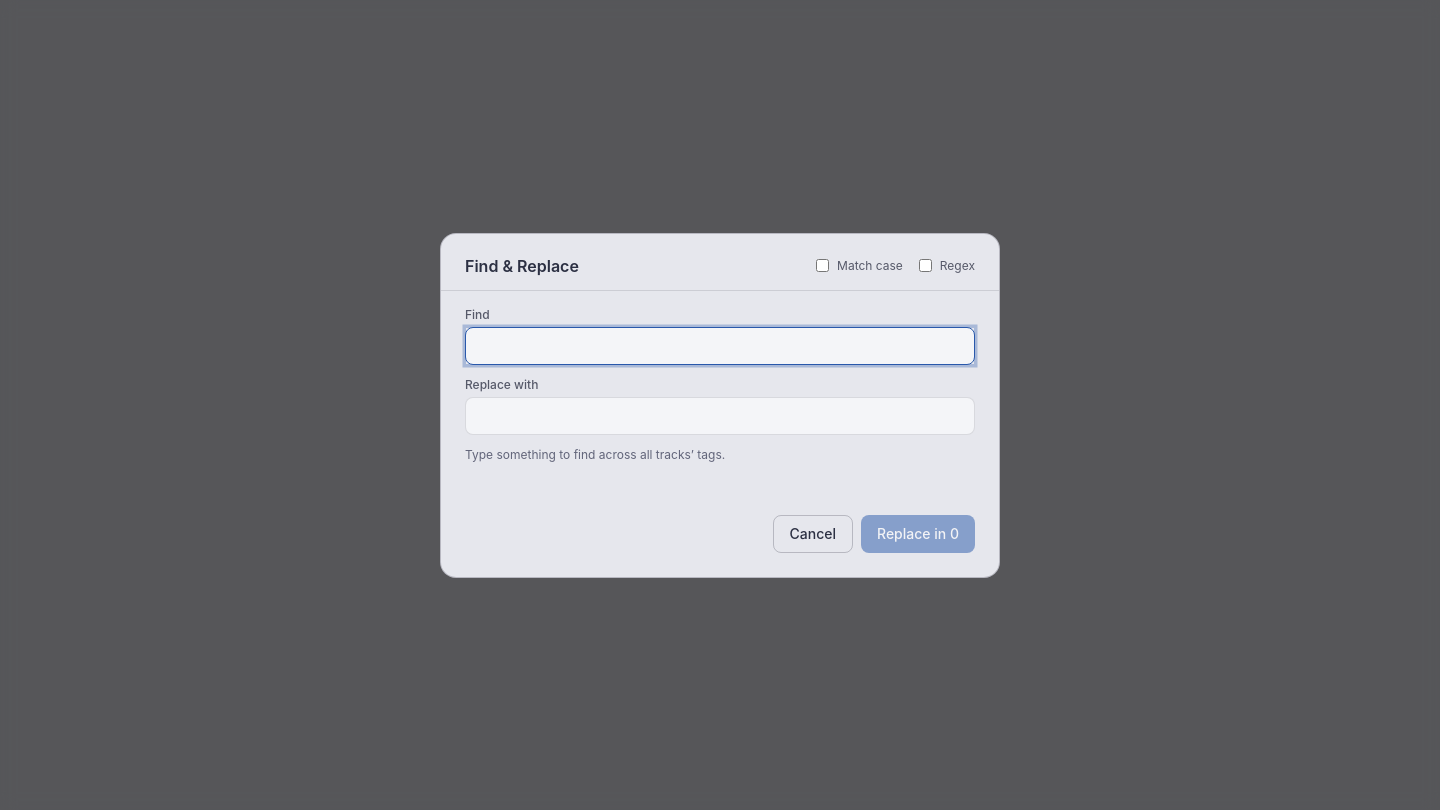
Test: FindReplaceModal chained replacements › relabels the dismiss button from Cancel to Close after the first apply
The image size is (1440, 810).
Expected: the button with test id "find-replace-cancel" reads "Cancel", 772,514 -> 853,552
Type "1. " into the field with test id "find-replace-find".
click(720, 346); type("1. ")  # box 466,328 -> 974,364
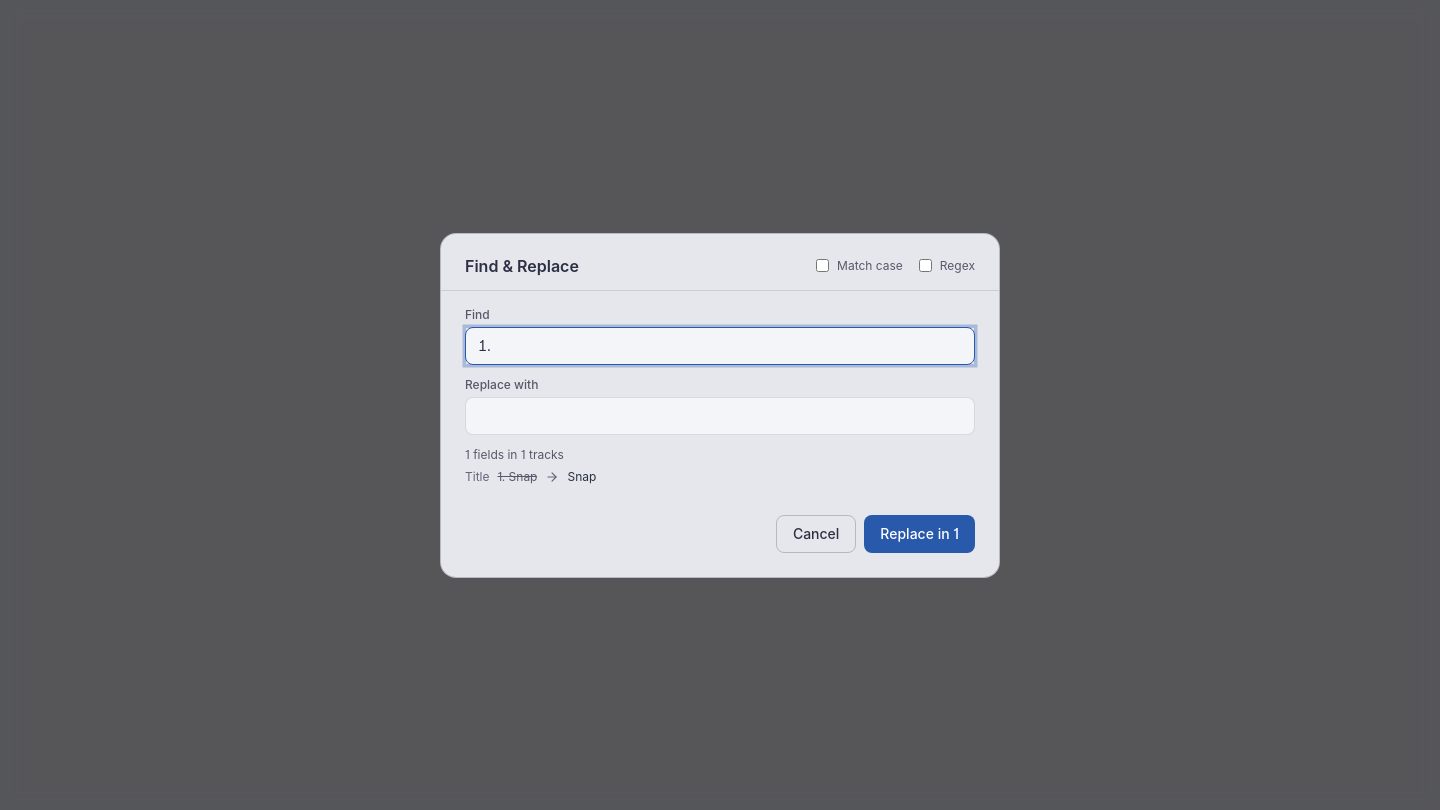
Click the button with test id "find-replace-apply".
click(920, 534)  # box 864,514 -> 975,552
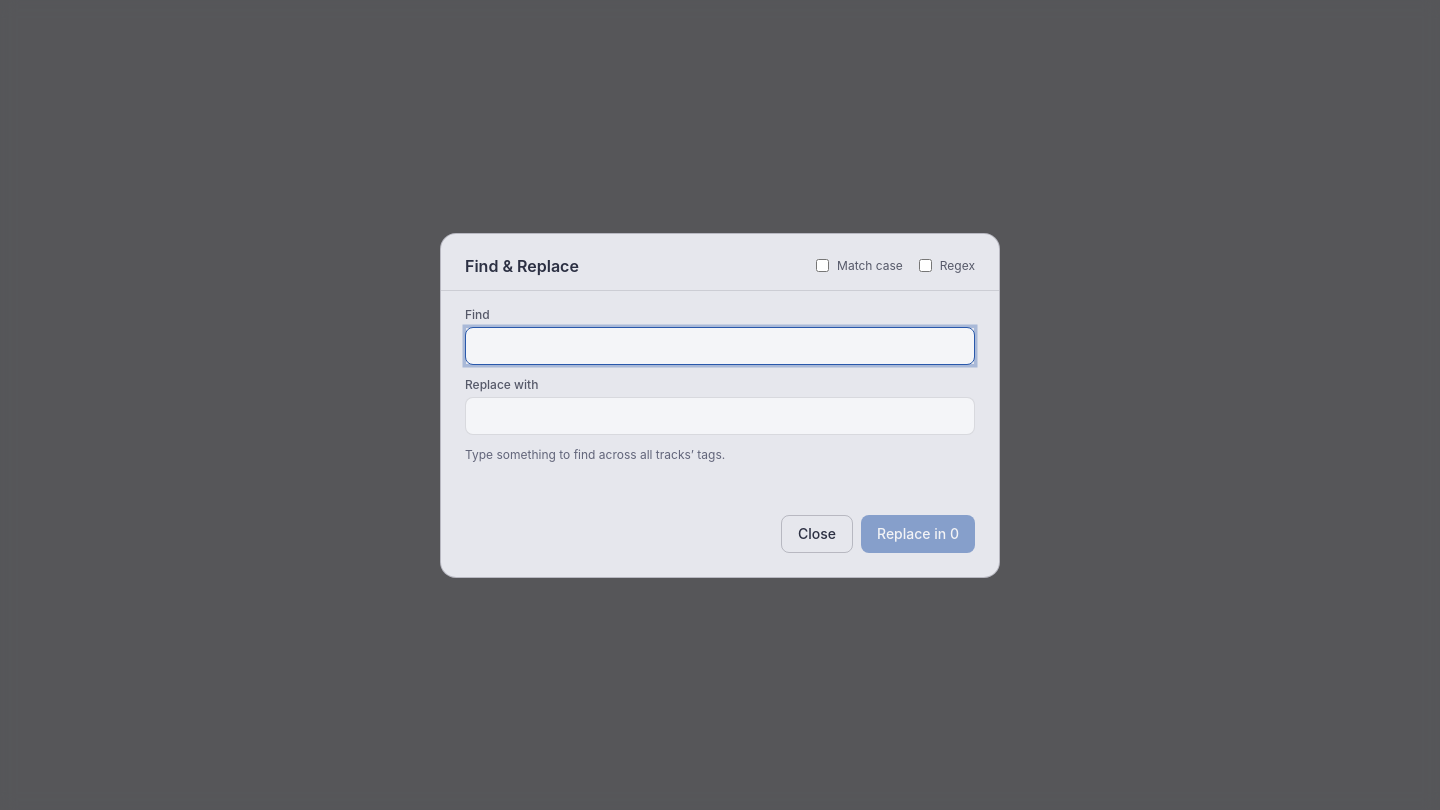
Result: the button with test id "find-replace-cancel" reads "Close" at 781,514 -> 853,552
